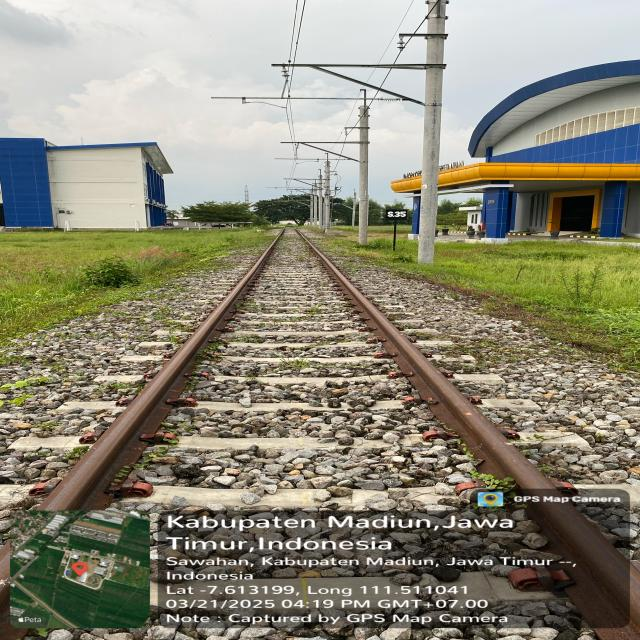rail-detection: (306, 241, 566, 505), (41, 231, 284, 510), (538, 500, 640, 628)
